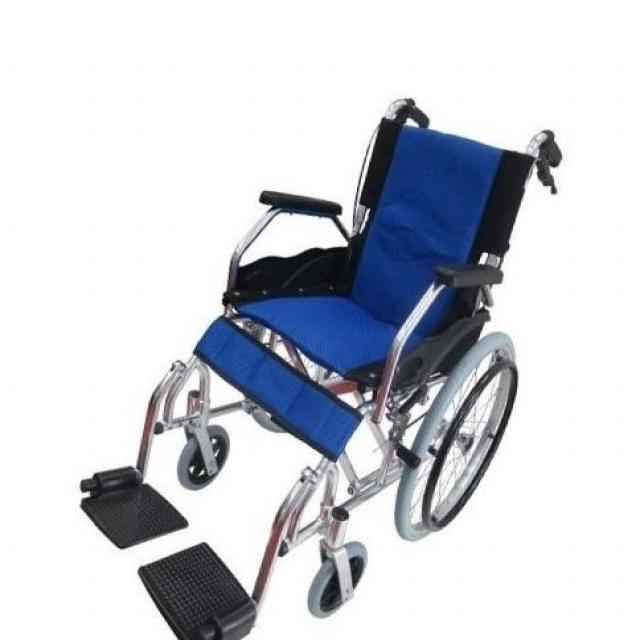wheelchair: (67, 87, 600, 640)
